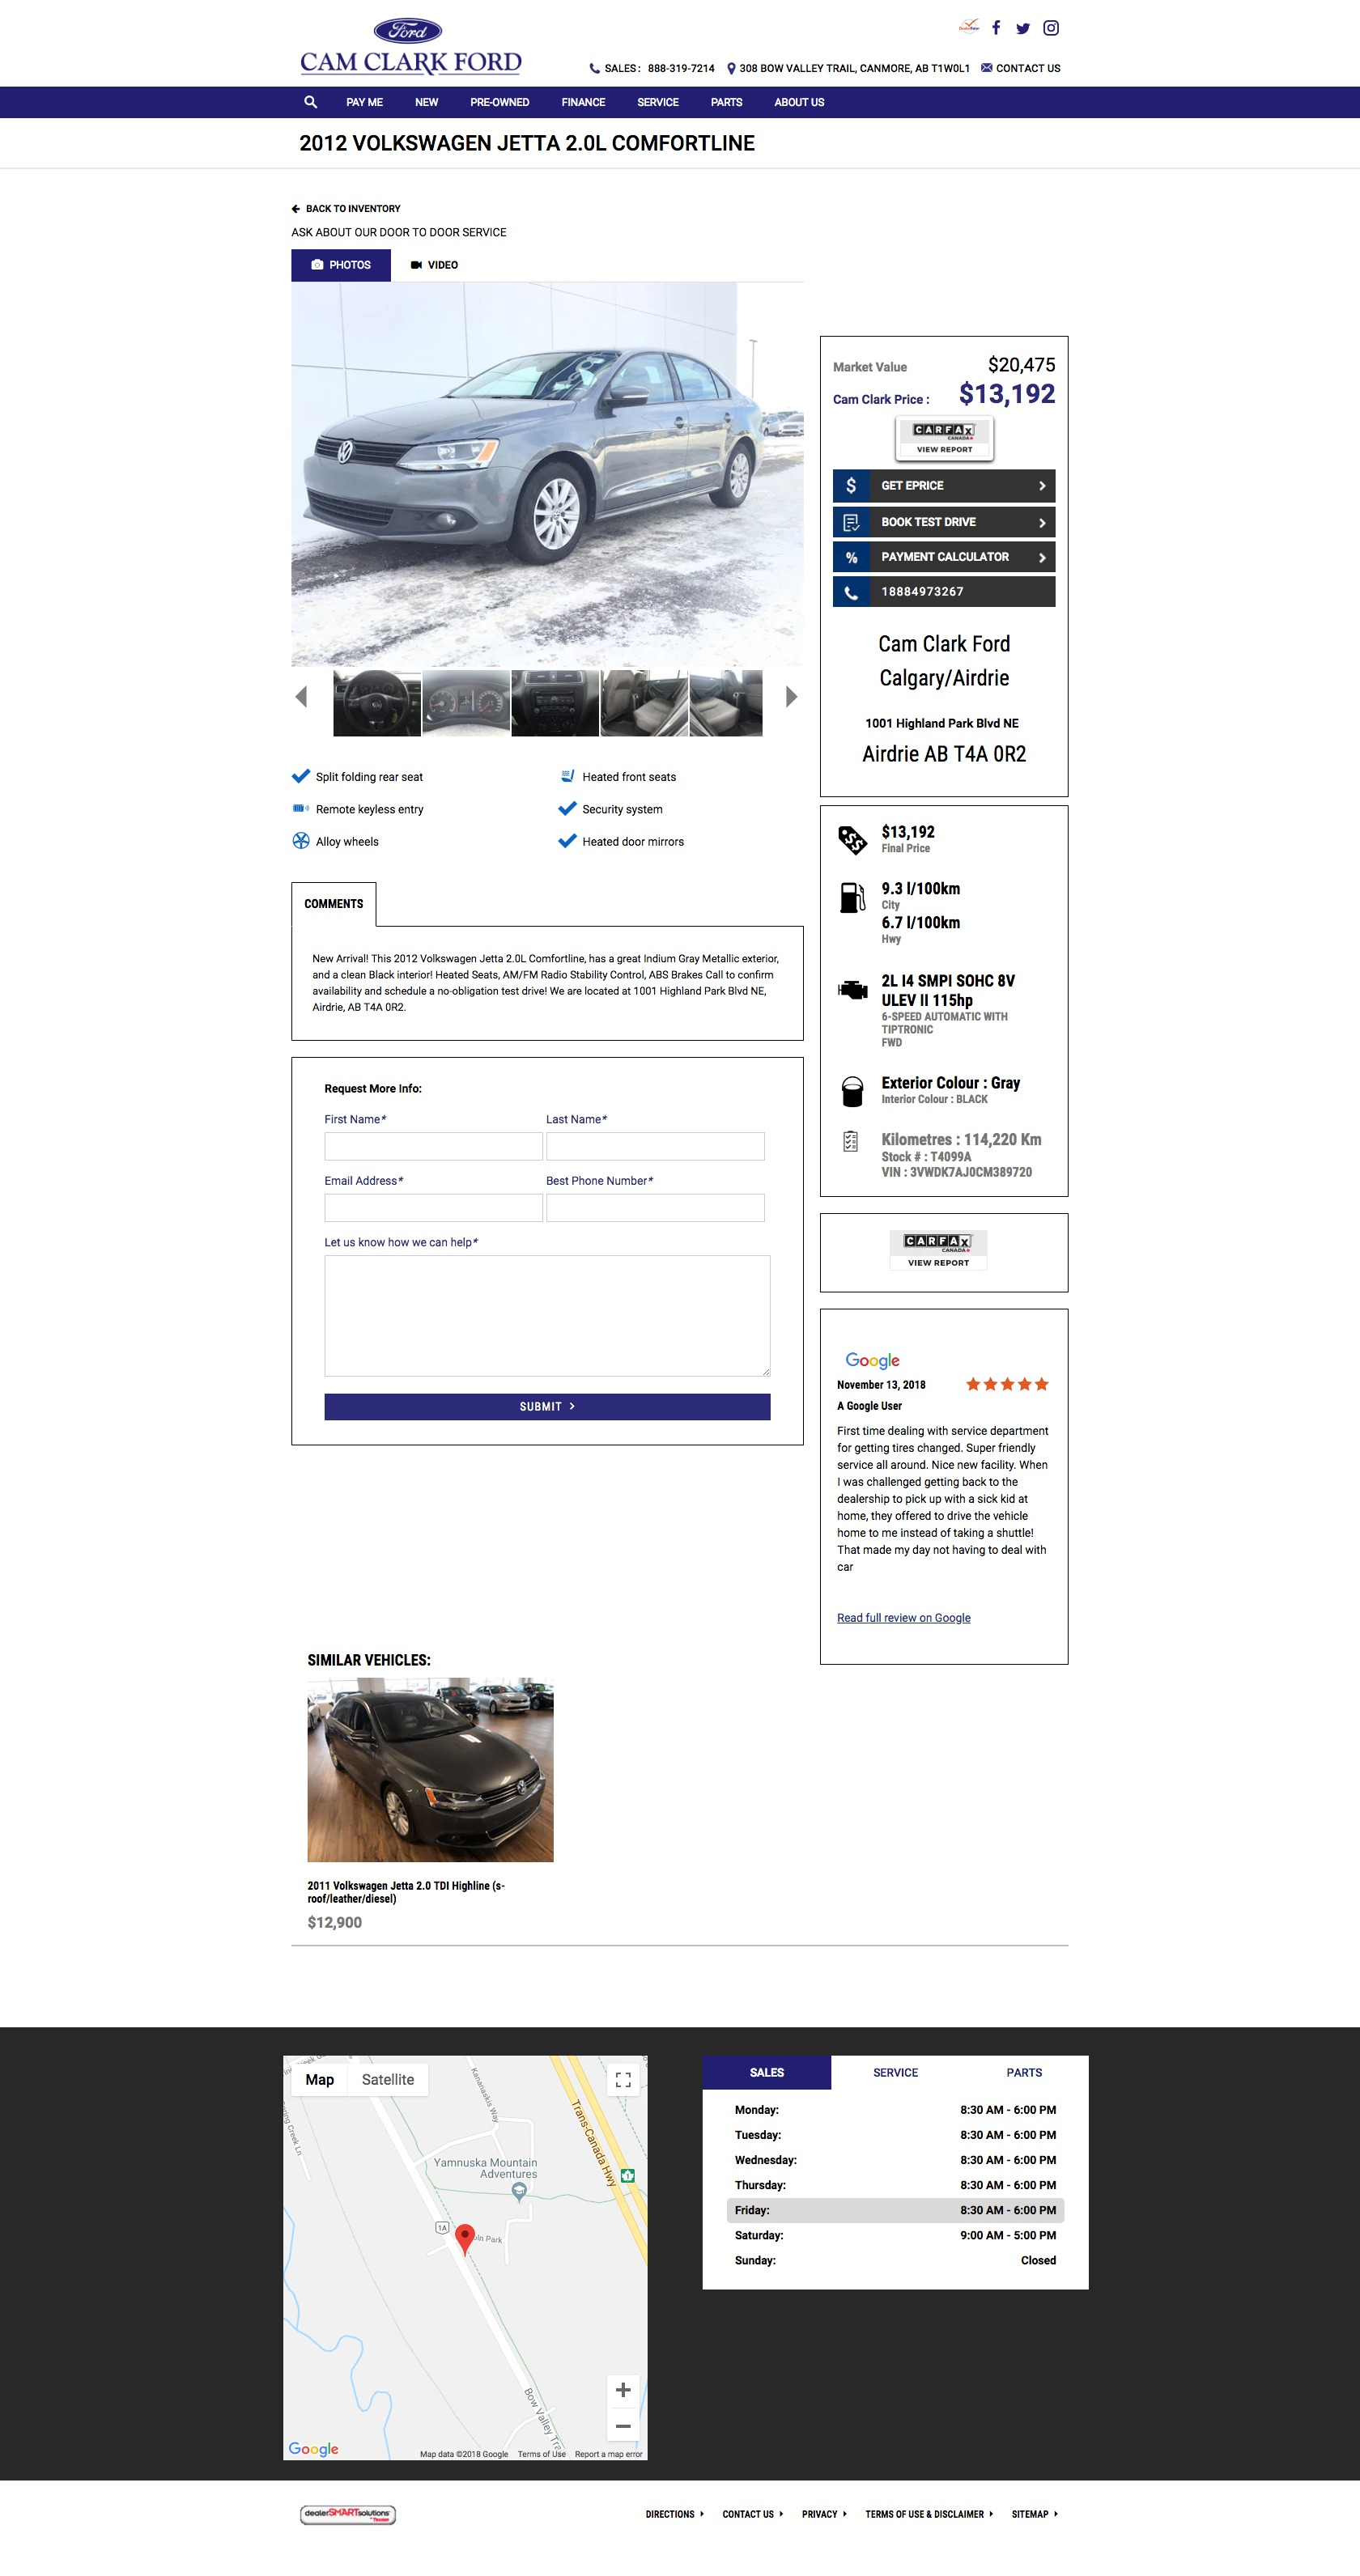car: (786, 685, 799, 709)
